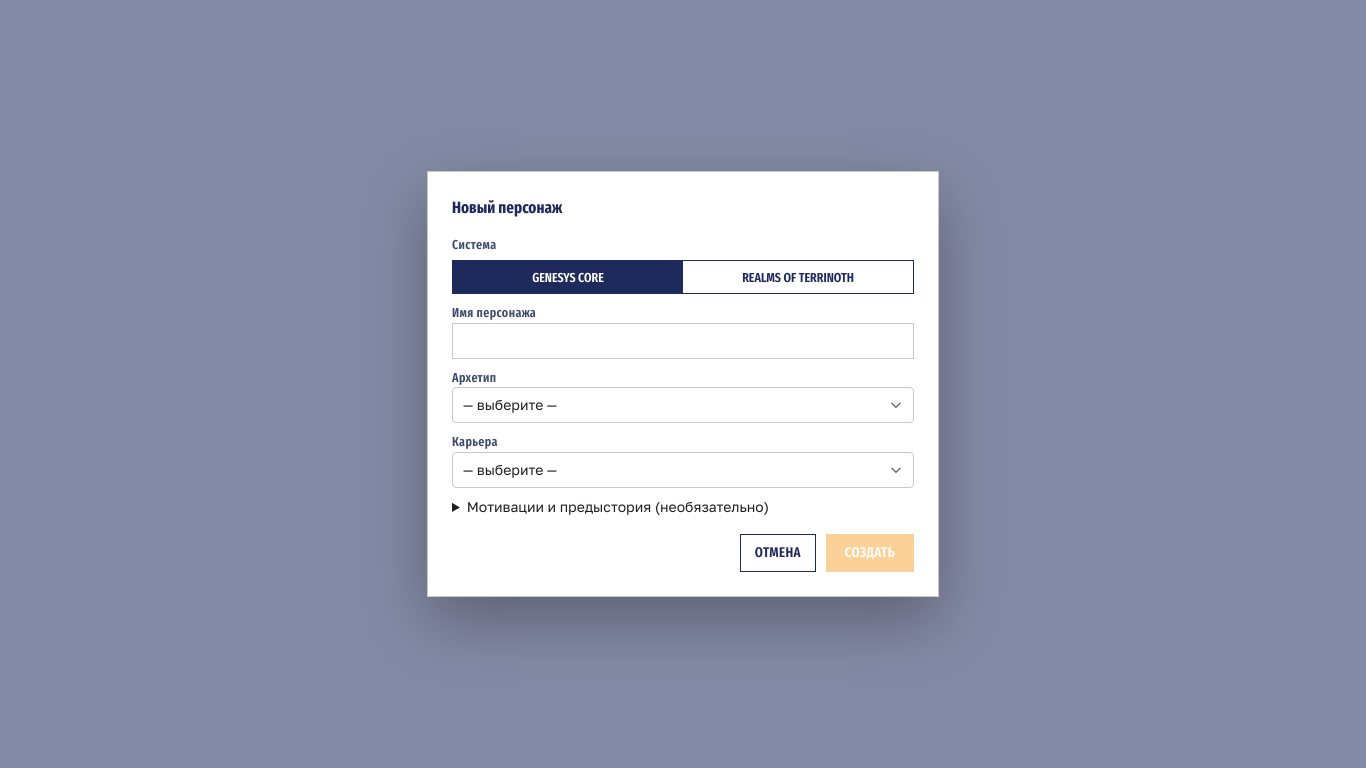
Test: CreateCharacterForm — видовые карьерные навыки (ROT-CRE-01) › добавляет видовую выдачу в список карьерных навыков и блокирует её при ранге 2
Click the dropdown labelled "— выберите —" below "Архетип".
click(510, 405)  # box [452,387,914,423]
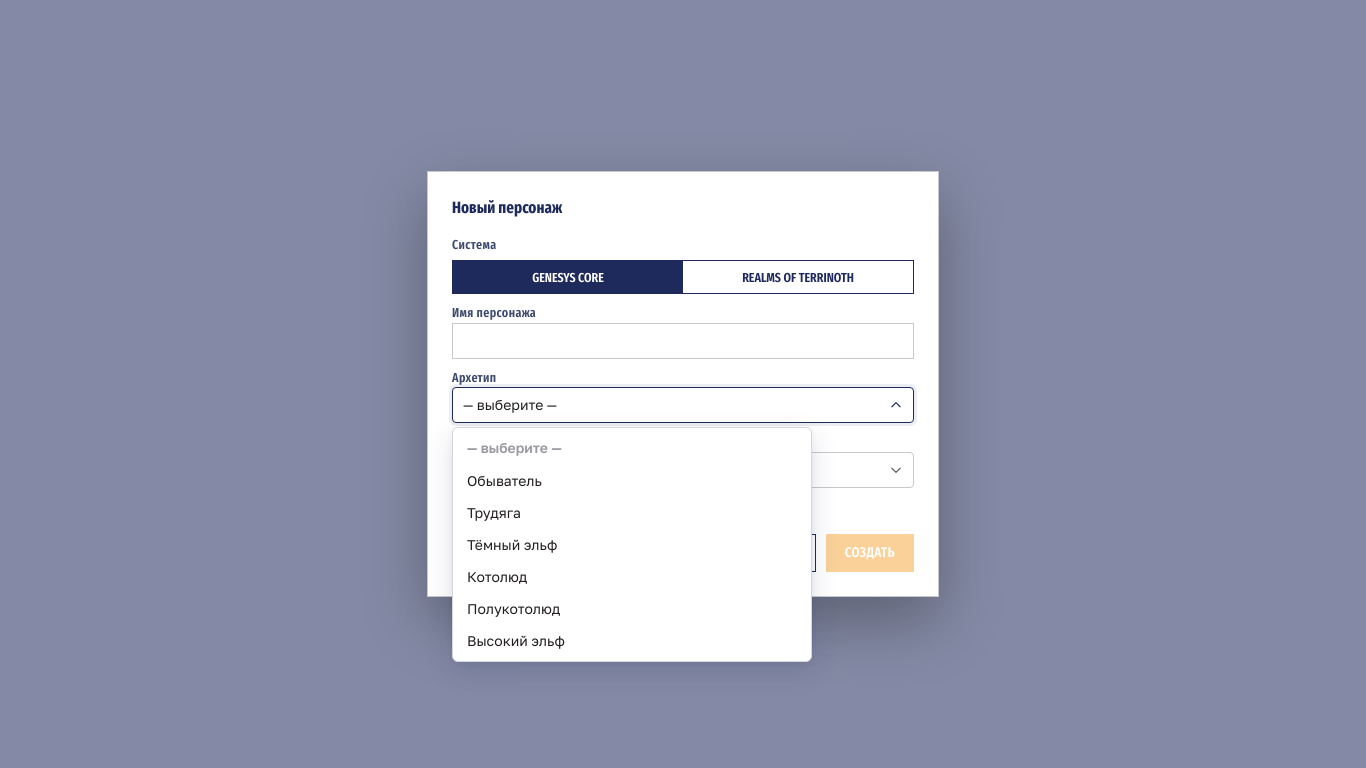
Press Escape in the dropdown, box [452,387,914,423]
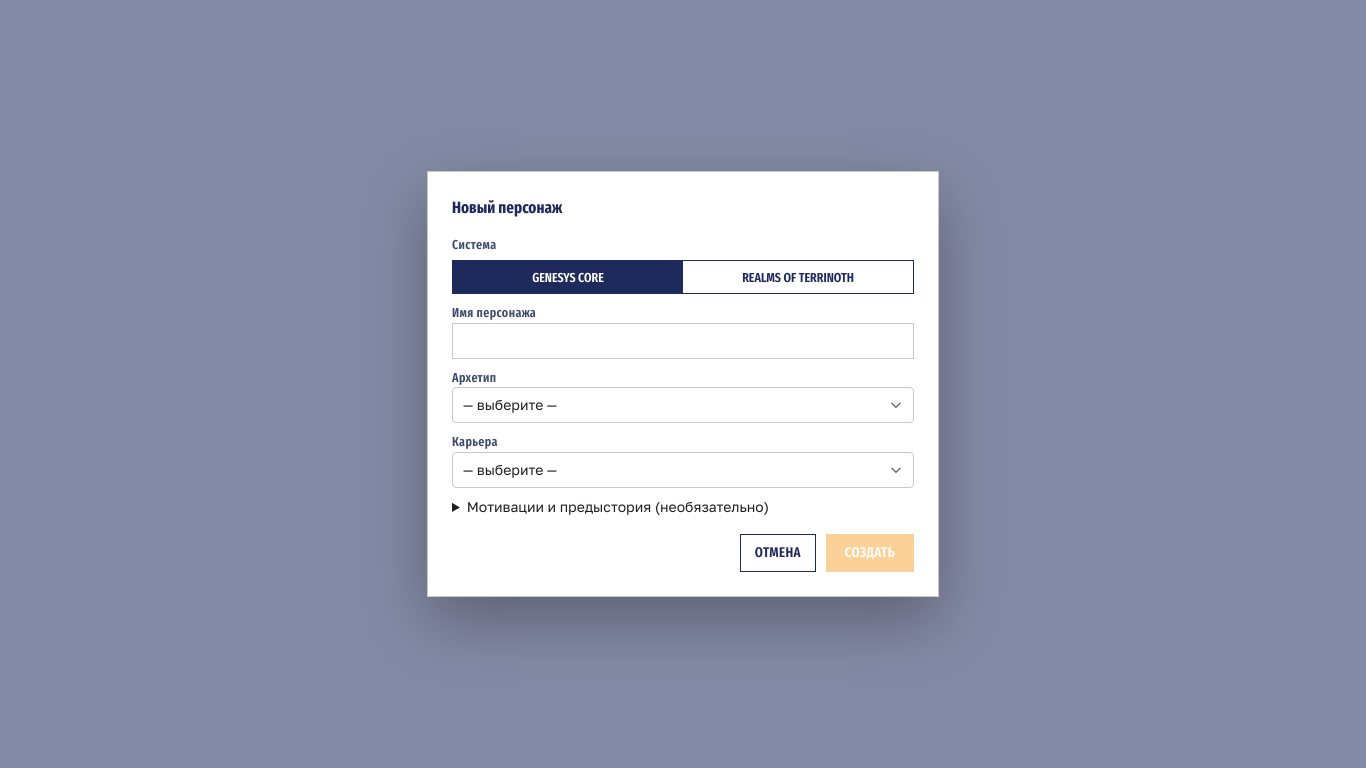
Press the mouse on the dropdown labelled "— выберите —" below "Архетип" at point(510, 405), box [452,387,914,423]
Click the dropdown labelled "— выберите —" below "Архетип".
click(510, 405)  # box [452,387,914,423]
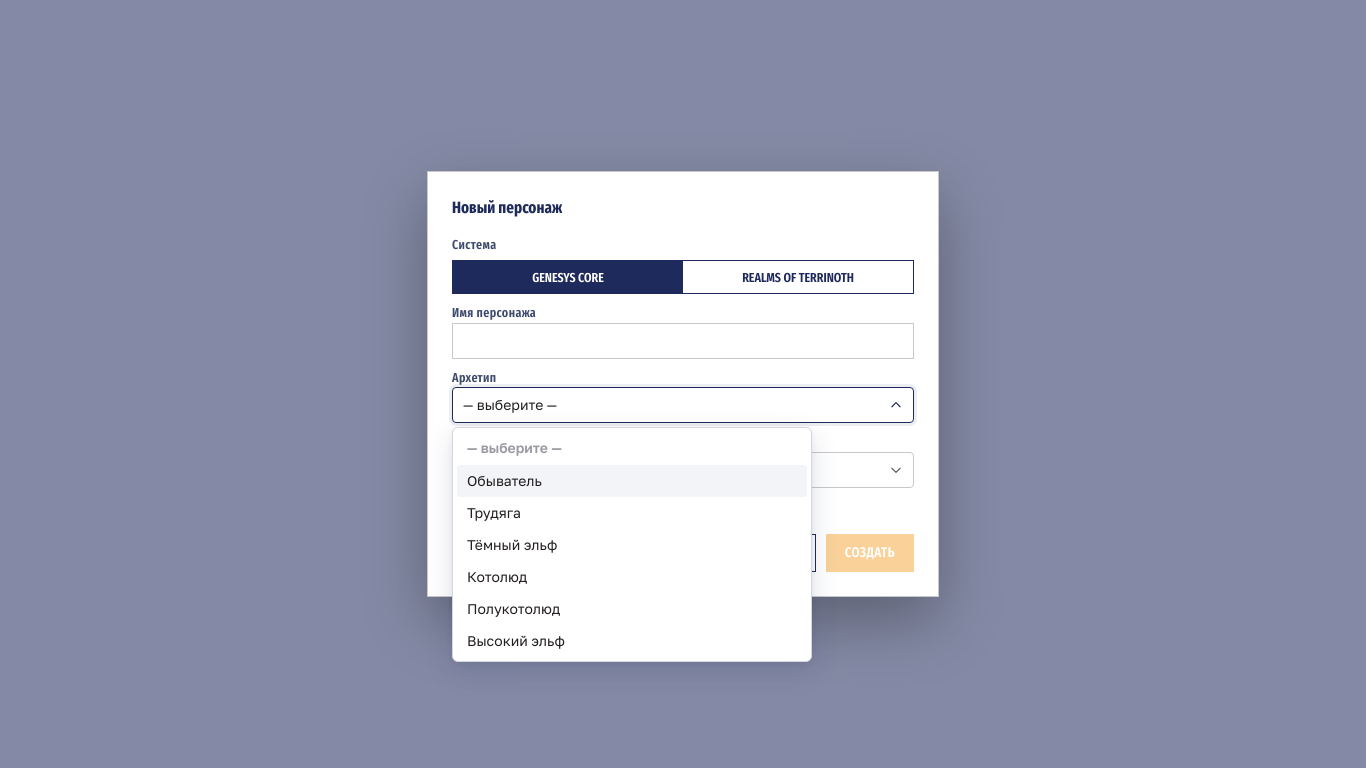
Click the option "Тёмный эльф".
click(512, 544)  # box [467,536,557,553]
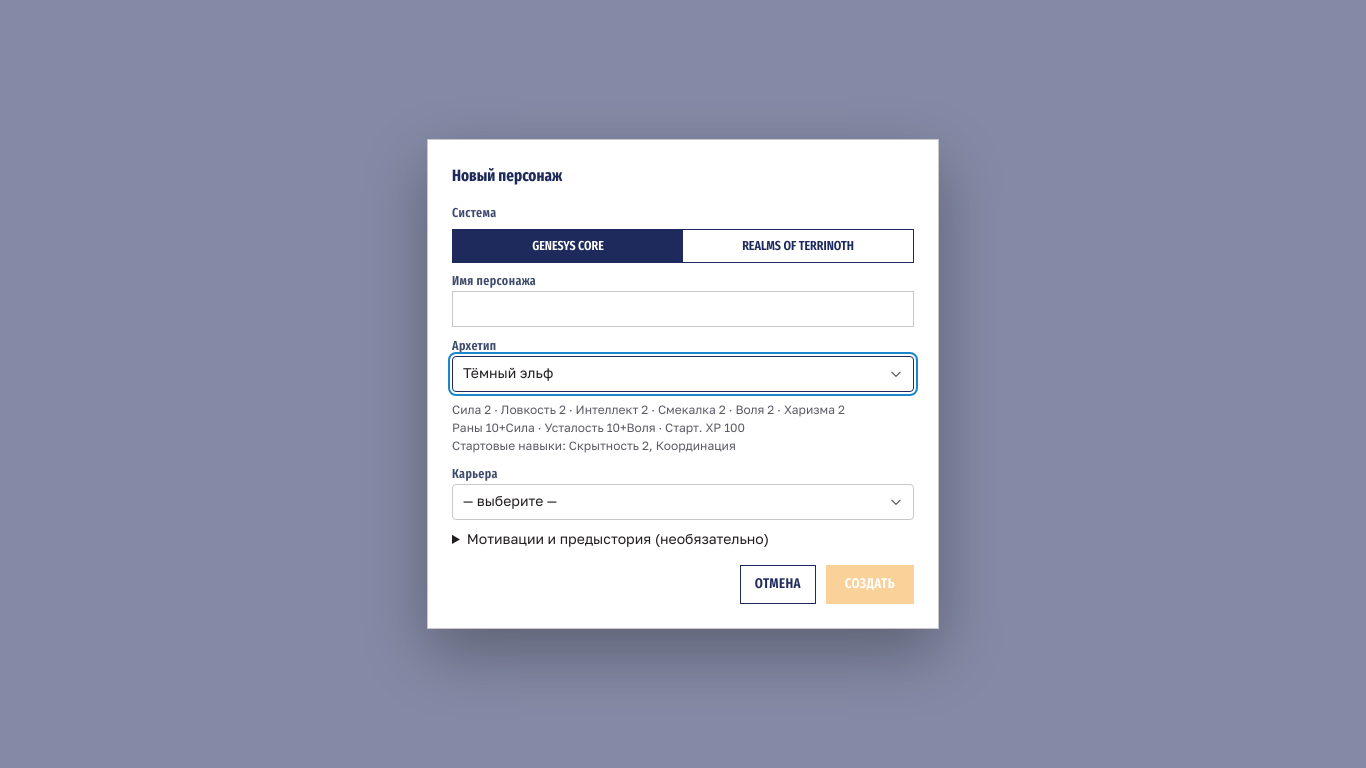
Press the mouse on the dropdown labelled "— выберите —" at point(510, 501), box [452,484,914,520]
Click the dropdown labelled "— выберите —".
click(510, 501)  # box [452,484,914,520]
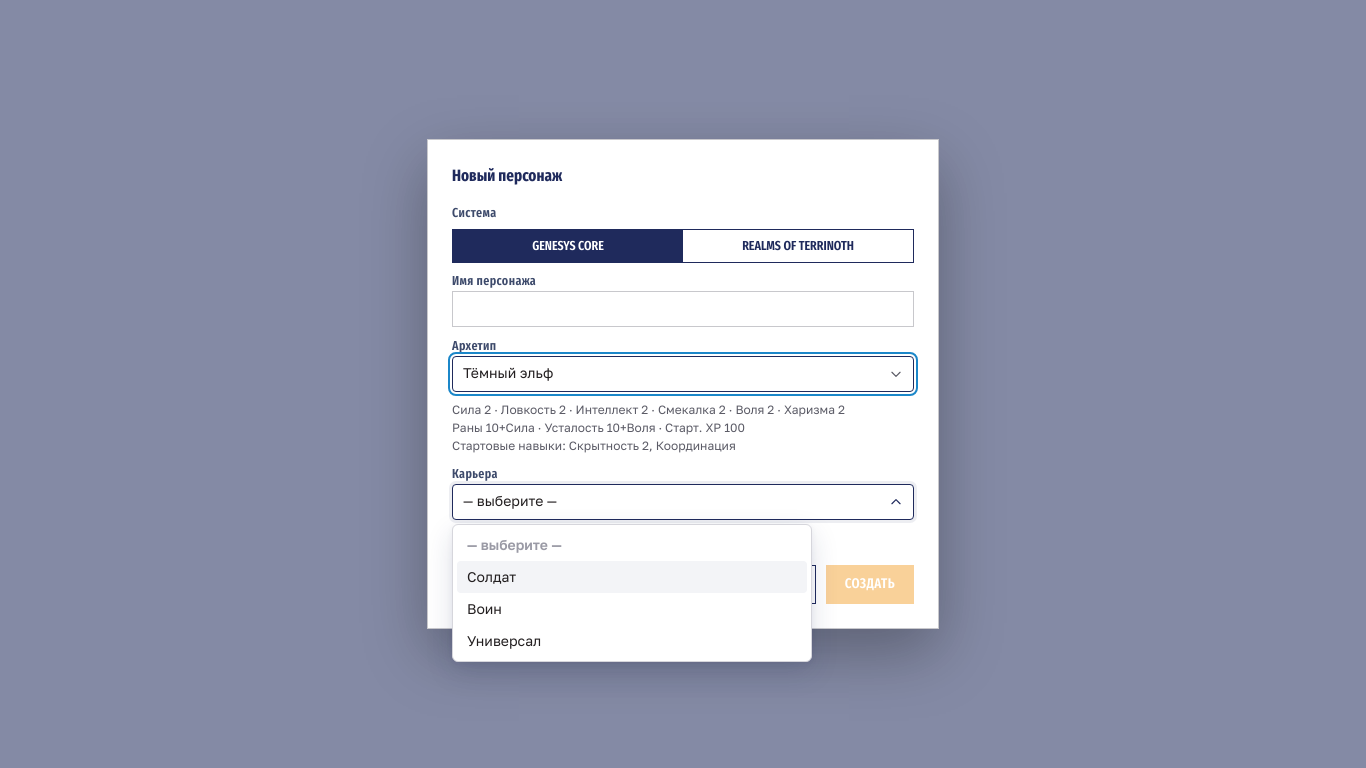
Click the option "Солдат".
click(492, 576)  # box [457,561,807,593]
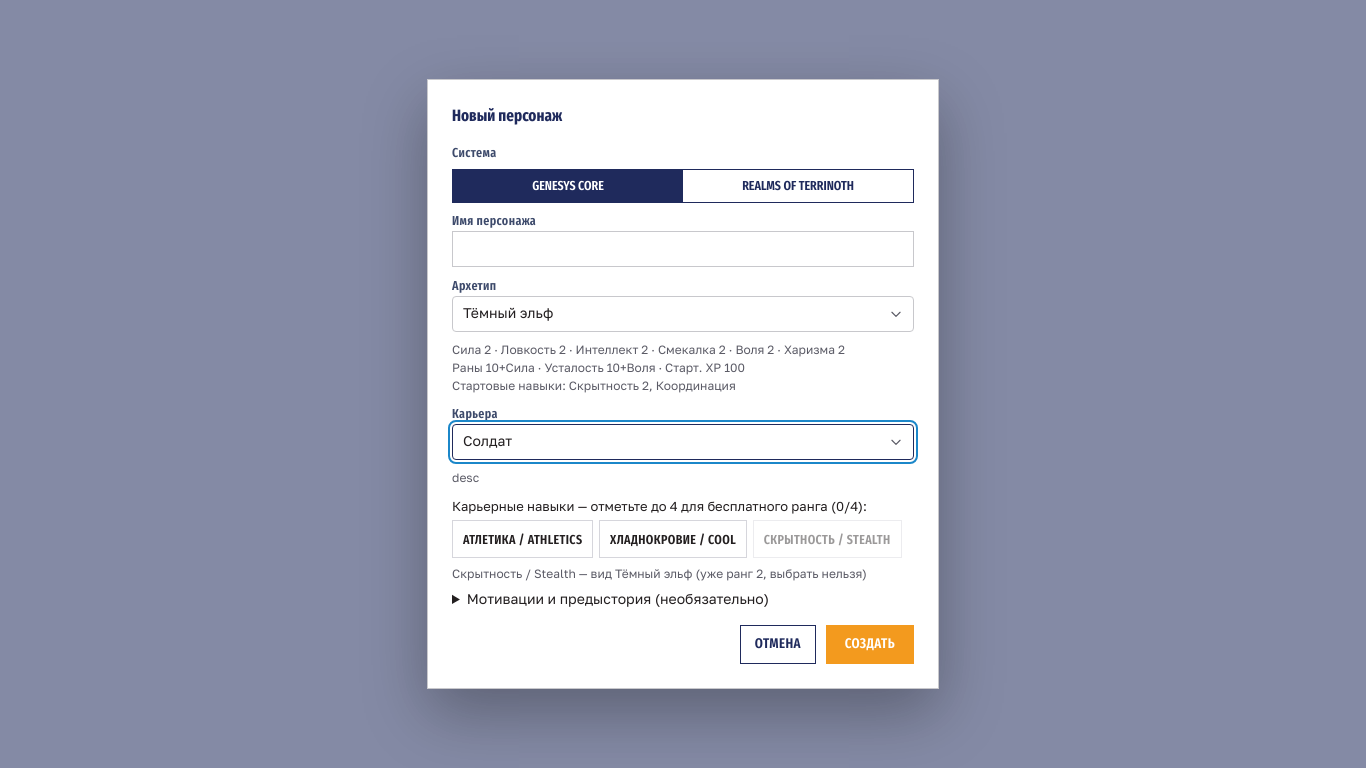
Now the button "Скрытность / Stealth" is disabled, box [753,520,902,558]
Now the text "уже ранг 2, выбрать нельзя" is shown, box [452,566,867,581]
